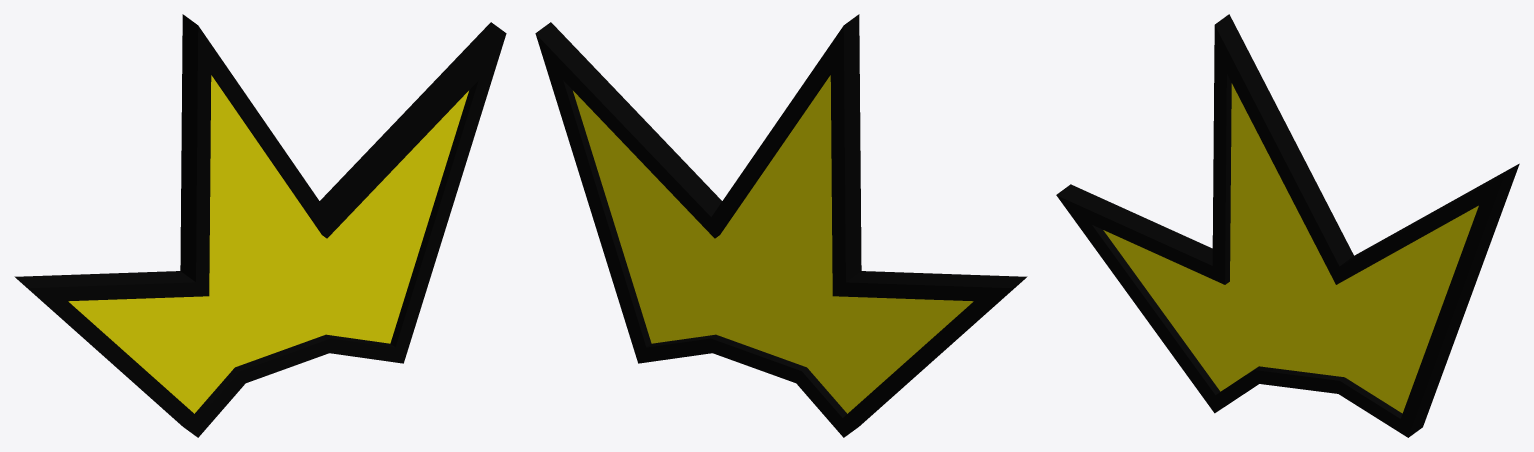
File: Shock_001.FBX
3 views of the same model, side by side, from view 1: azimuth 30°, elevation 25°; view 2: azimuth 150°, elevation 25°; view 3: azimuth 330°, elevation 25° (orthographic). The views are drawn at different scales.
Visible parts, largest first — view 1: Shock_001; view 2: Shock_001; view 3: Shock_001.
Boxes of the visible parts, <box> form: Shock_001: <box>14,14,506,437</box>; Shock_001: <box>535,14,1027,437</box>; Shock_001: <box>1056,14,1519,437</box>.
Bounding box in the file's own units: 70.82 × 4 × 58.59.
